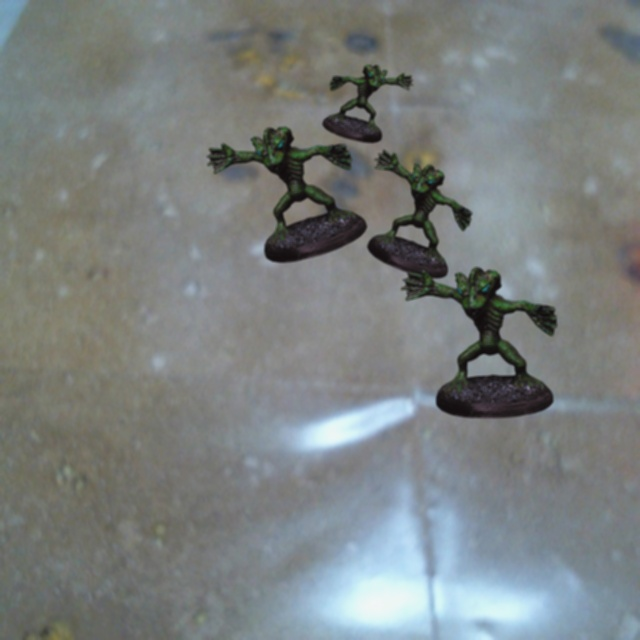pieza_juego: (401, 267, 556, 418), (206, 126, 366, 262), (367, 149, 472, 278), (322, 64, 412, 142)
